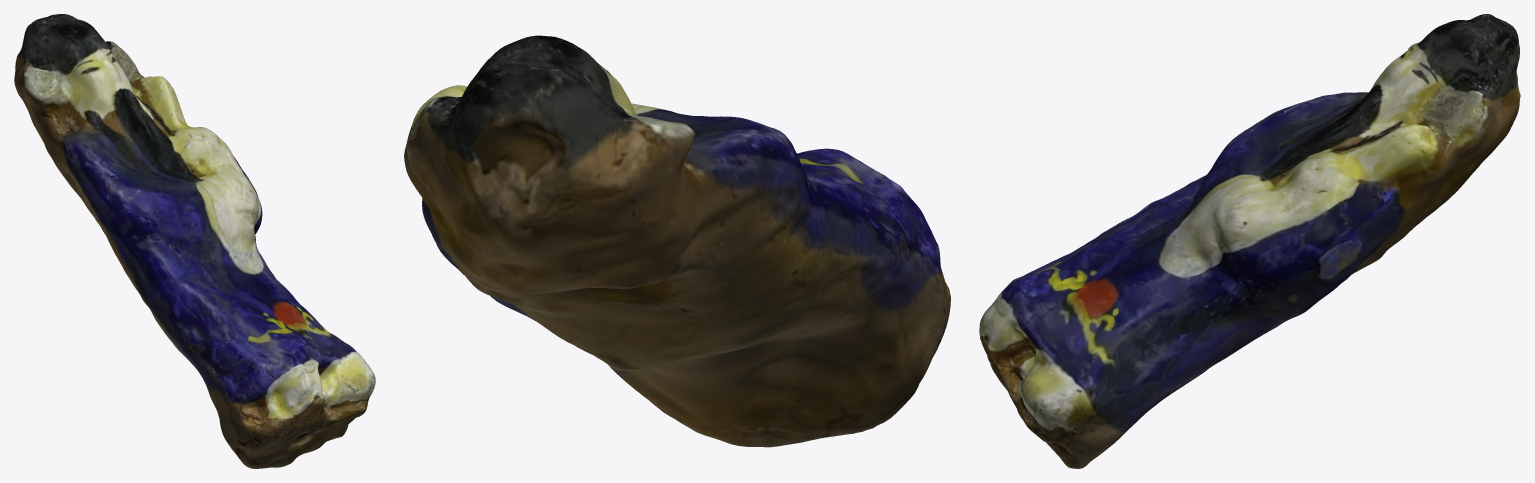
3 renders of one model, left to right at view 1: azimuth 30°, elevation 25°; view 2: azimuth 150°, elevation 25°; view 3: azimuth 270°, elevation 25°, orthographic. The views are drawn at different scales.
Size of the model in its own units: 0.2881 by 0.4781 by 0.5884.
1 material, 1 textured.
